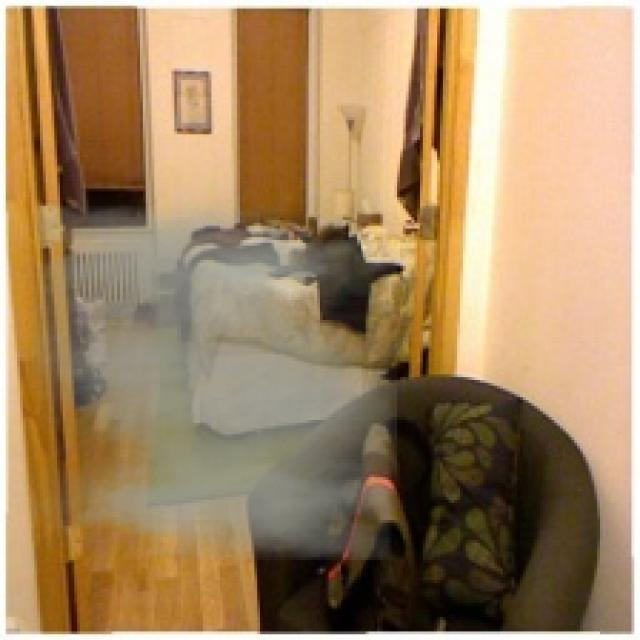smoke: (32, 206, 397, 560)
